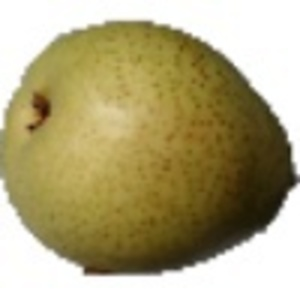pera: (1, 17, 300, 278)
